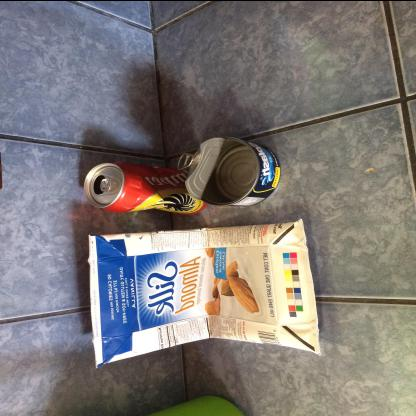karton: (91, 218, 323, 368)
metal: (176, 136, 282, 207), (85, 160, 209, 214)
